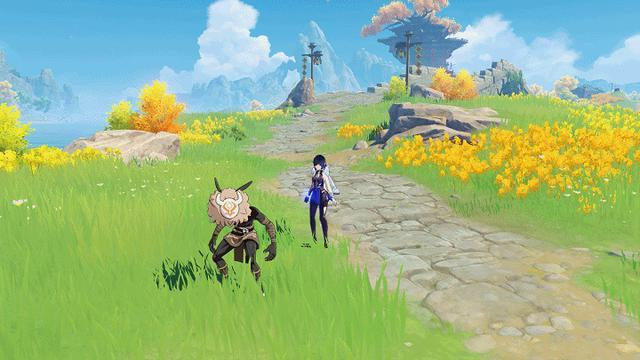夜兰: (302, 152, 347, 248)
